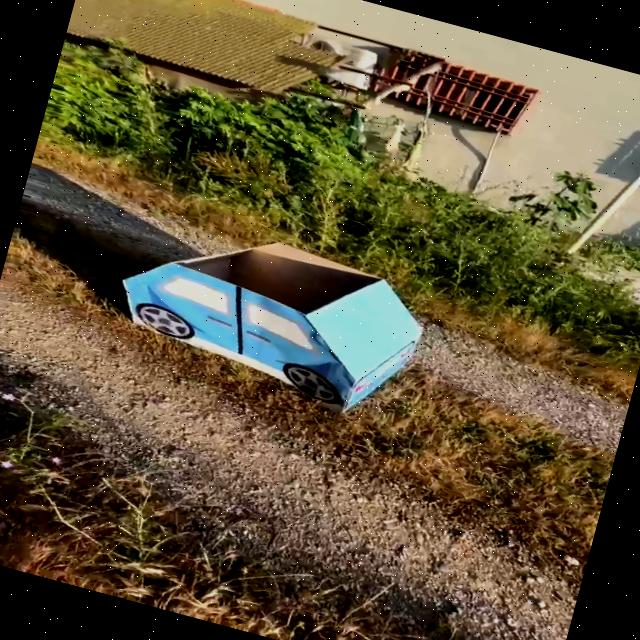blue_car: (32, 164, 491, 457)
